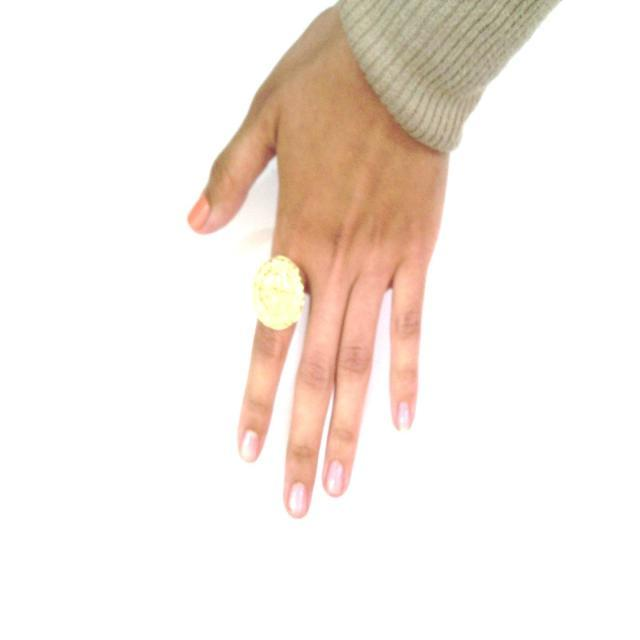Fingernail: (188, 196, 209, 228), (290, 482, 308, 516), (327, 462, 344, 495), (241, 431, 258, 462), (399, 402, 411, 431)
